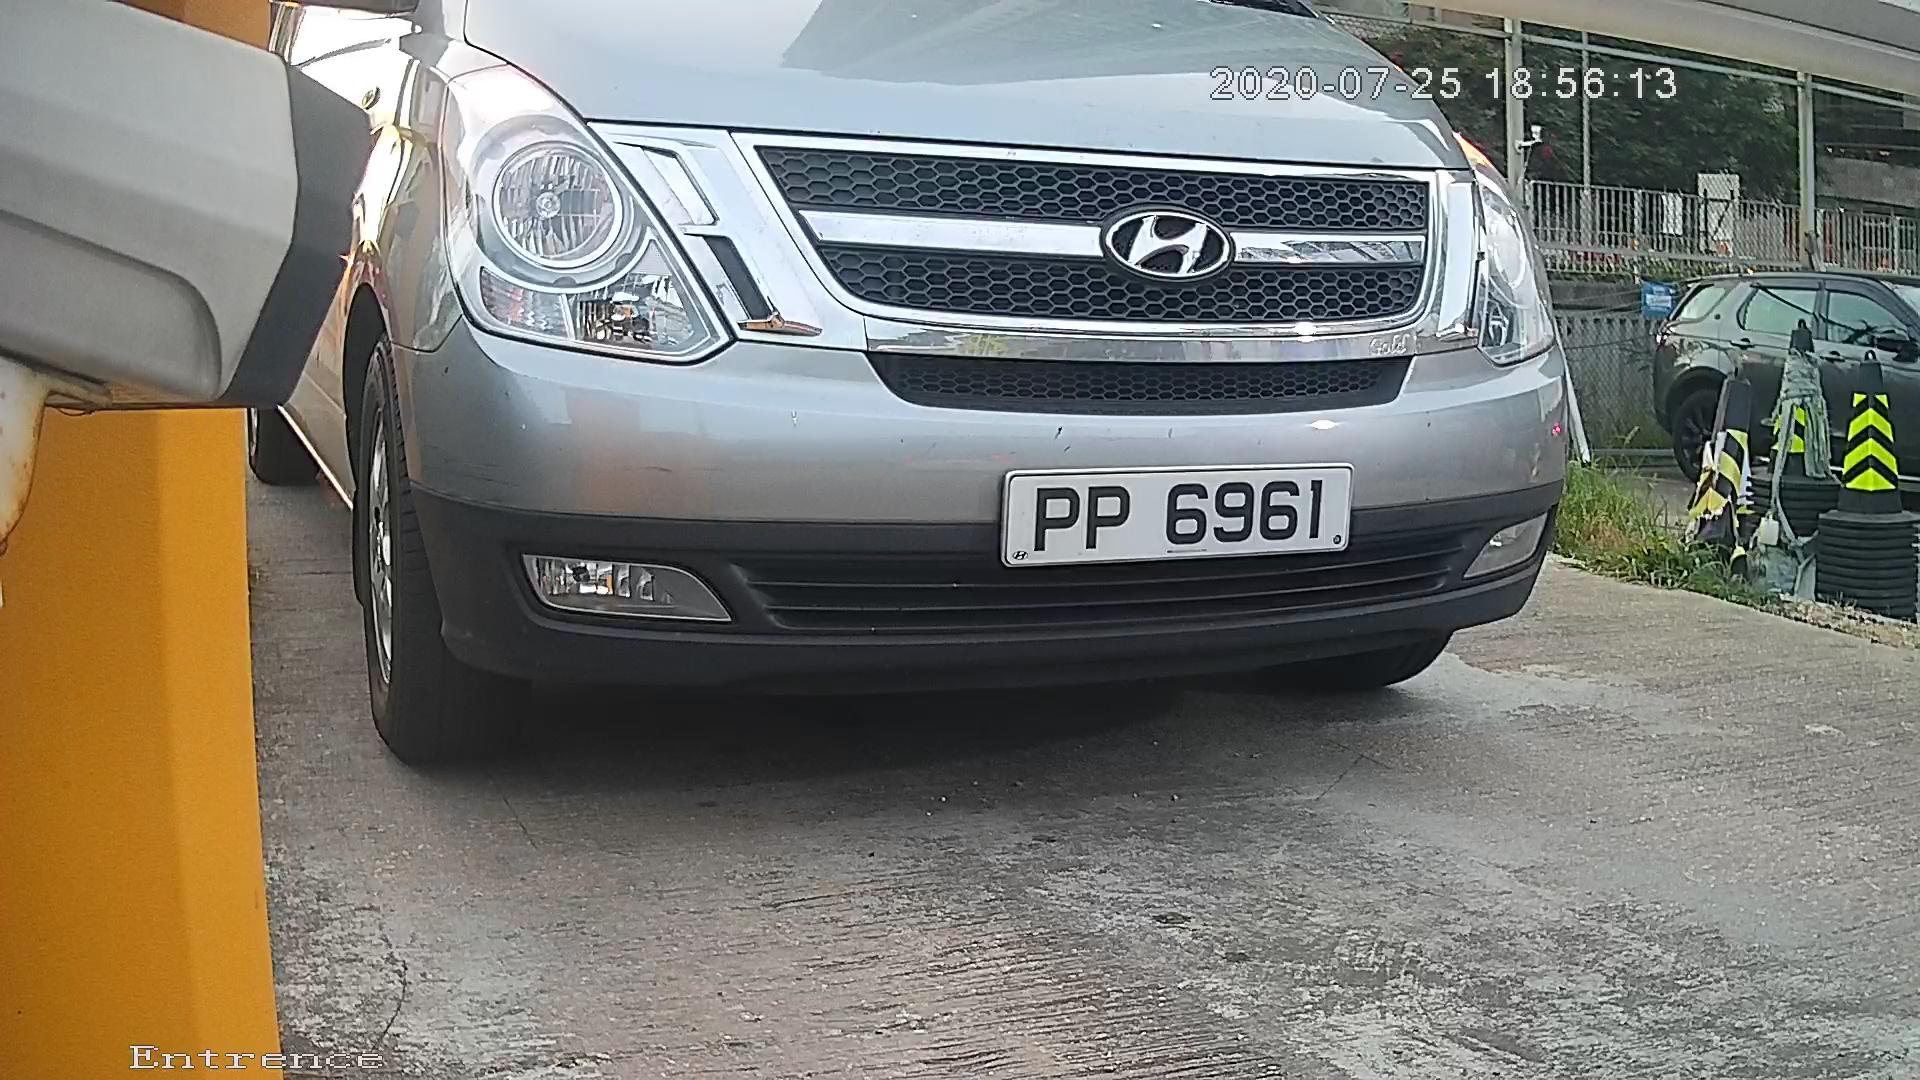License Plate: (960, 454, 1398, 574)
